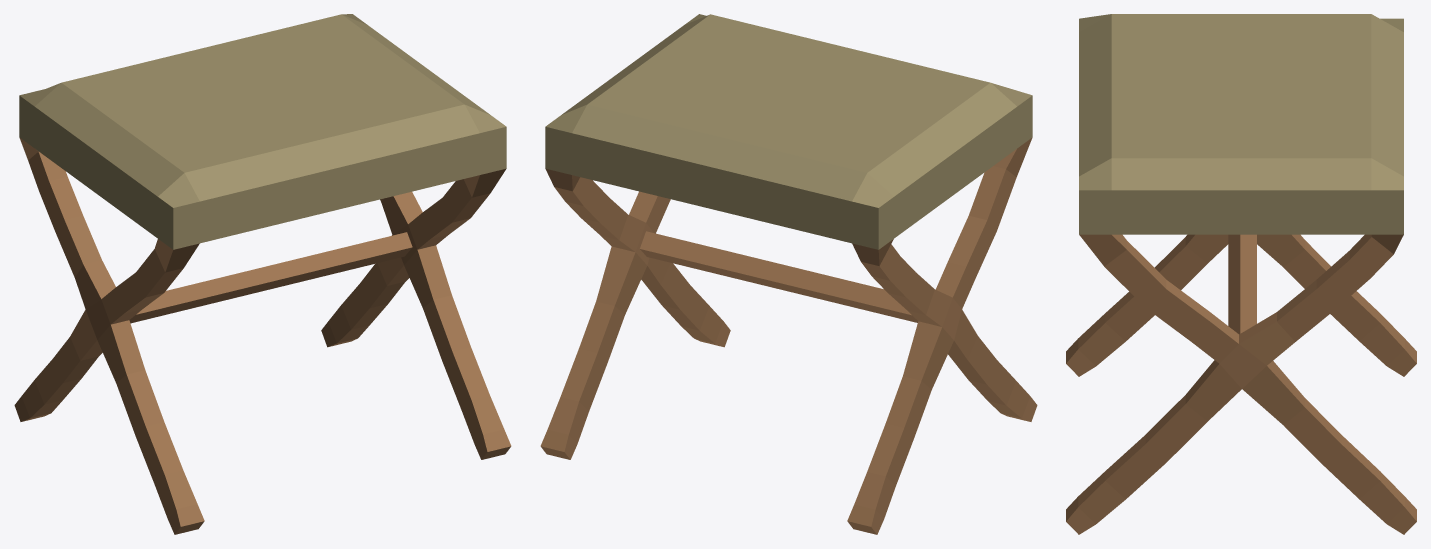
File: taburete.fbx
3 views of the same model, side by side, from view 1: azimuth 30°, elevation 25°; view 2: azimuth 150°, elevation 25°; view 3: azimuth 270°, elevation 25° (orthographic). The views are drawn at different scales.
Parts seen in each view (by area): view 1: taburete; view 2: taburete; view 3: taburete.
Boxes of the visible parts, bbox=[...] form: taburete: bbox=[14, 14, 511, 534]; taburete: bbox=[540, 14, 1037, 534]; taburete: bbox=[1066, 14, 1416, 534].
Bounding box in the file's own units: 50 × 49.4 × 43.19.
